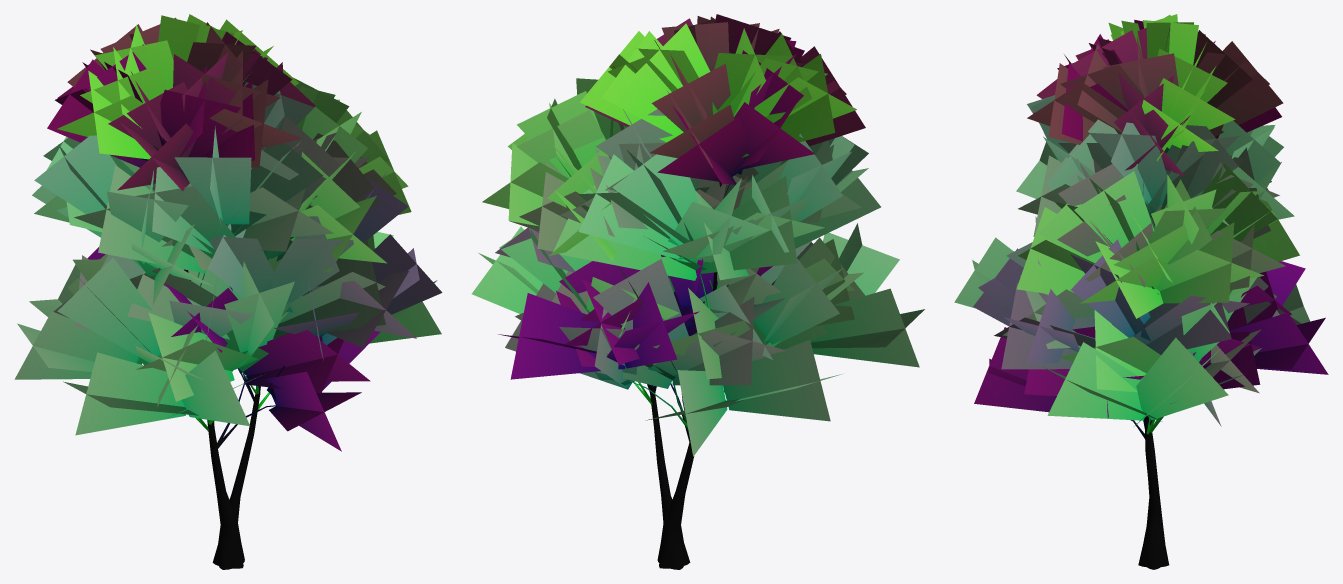
File: Tree_8_10.fbx
3 renders of one model, left to right at view 1: azimuth 30°, elevation 25°; view 2: azimuth 150°, elevation 25°; view 3: azimuth 270°, elevation 25°, orthographic. The views are drawn at different scales.
Visible parts, largest first — view 1: _13; view 2: _13; view 3: _13.
Boxes of the visible parts, <box> form: _13: <box>14,14,442,569</box>; _13: <box>471,14,924,569</box>; _13: <box>954,14,1328,569</box>.
Size of the model in its own units: 1085 by 1488 by 991.
